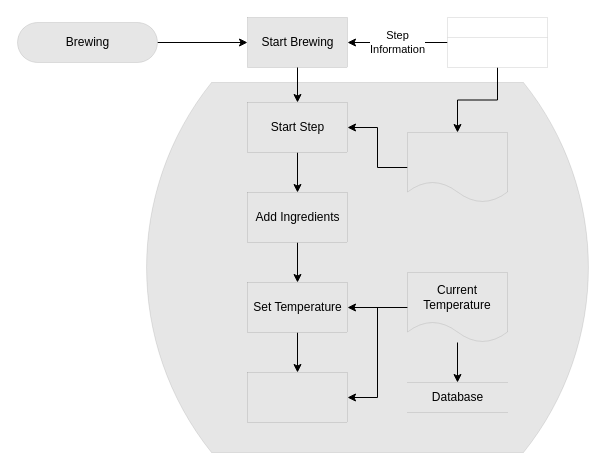
Some shapes in this 614 by 469 pixel diagram are drawn without their labels. Each missing label, with the box of its shape:
Control Temperature: (247, 372, 347, 422)
Ingredients Temperature: (407, 132, 507, 202)
Recipe: (447, 17, 547, 67)
